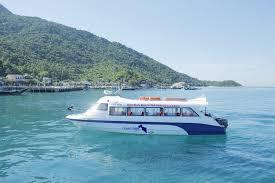Ship: (65, 97, 229, 136)
